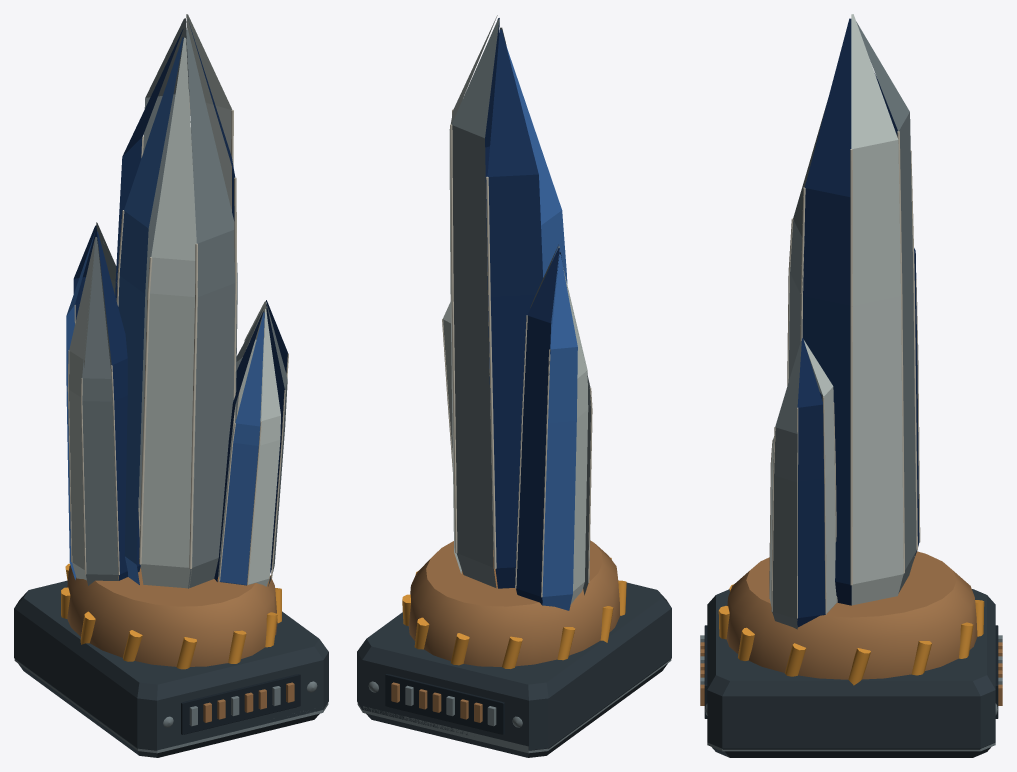
Rendered from tower_cryo.glb.
3 views of the same model, side by side, from view 1: azimuth 30°, elevation 25°; view 2: azimuth 150°, elevation 25°; view 3: azimuth 270°, elevation 25° (orthographic). The views are drawn at different scales.
Visible parts, largest first — view 1: tower_cryo; view 2: tower_cryo; view 3: tower_cryo.
Part boxes in pixels (box(x1,y1,x2,y2)): tower_cryo: box(14, 14, 328, 757); tower_cryo: box(357, 15, 671, 757); tower_cryo: box(700, 14, 1002, 757).
Bounding box in the file's own units: 3.2 × 10.75 × 4.17.
